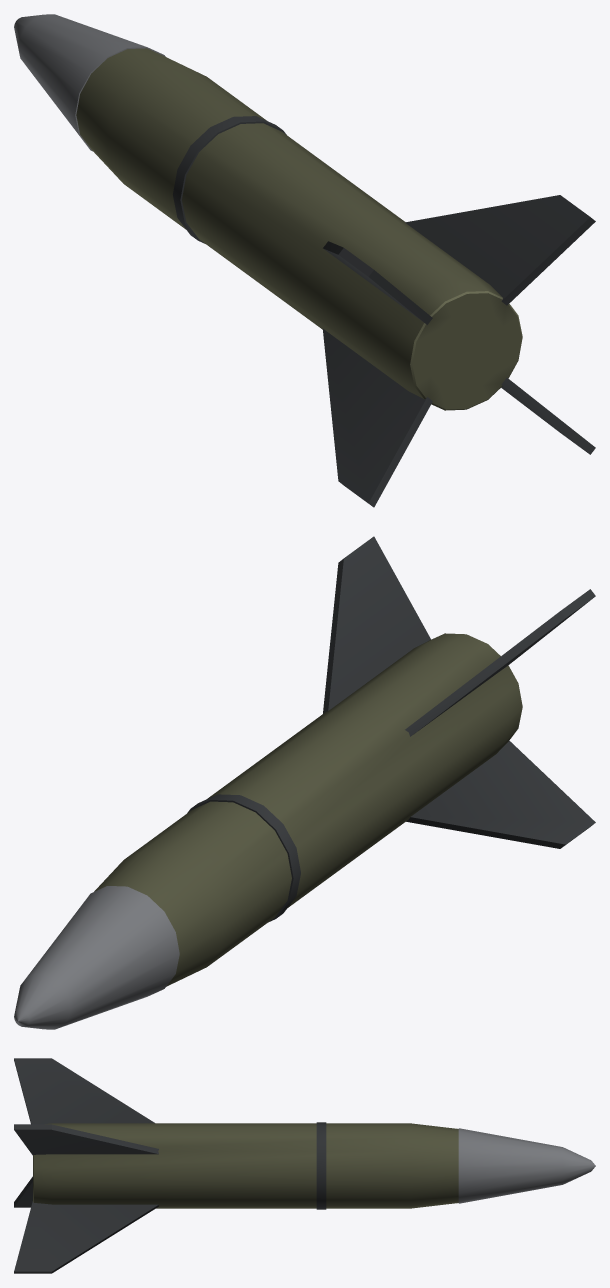
Rendered from rocket_round.glb.
The picture shows the model from 3 angles, top to bottom: view 1: azimuth 30°, elevation 25°; view 2: azimuth 150°, elevation 25°; view 3: azimuth 270°, elevation 25°; orthographic projection. The views are drawn at different scales.
Parts seen in each view (by area): view 1: Body; view 2: Body; view 3: Body.
Part boxes in pixels (bbox=[...]): Body: bbox=[14, 14, 595, 507]; Body: bbox=[14, 536, 595, 1029]; Body: bbox=[14, 1058, 595, 1273].
Size of the model in its own units: 0.1739 by 0.1739 by 0.615.
